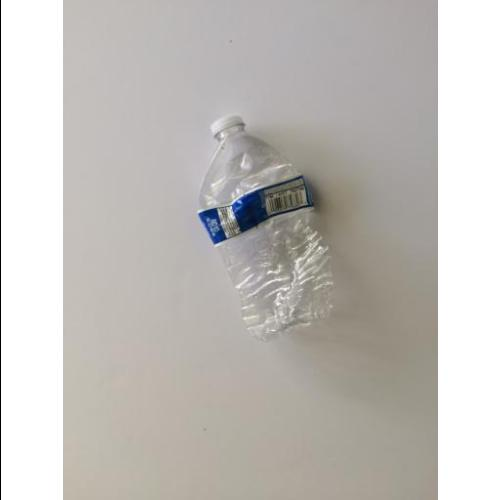plastic: (201, 116, 330, 345)
